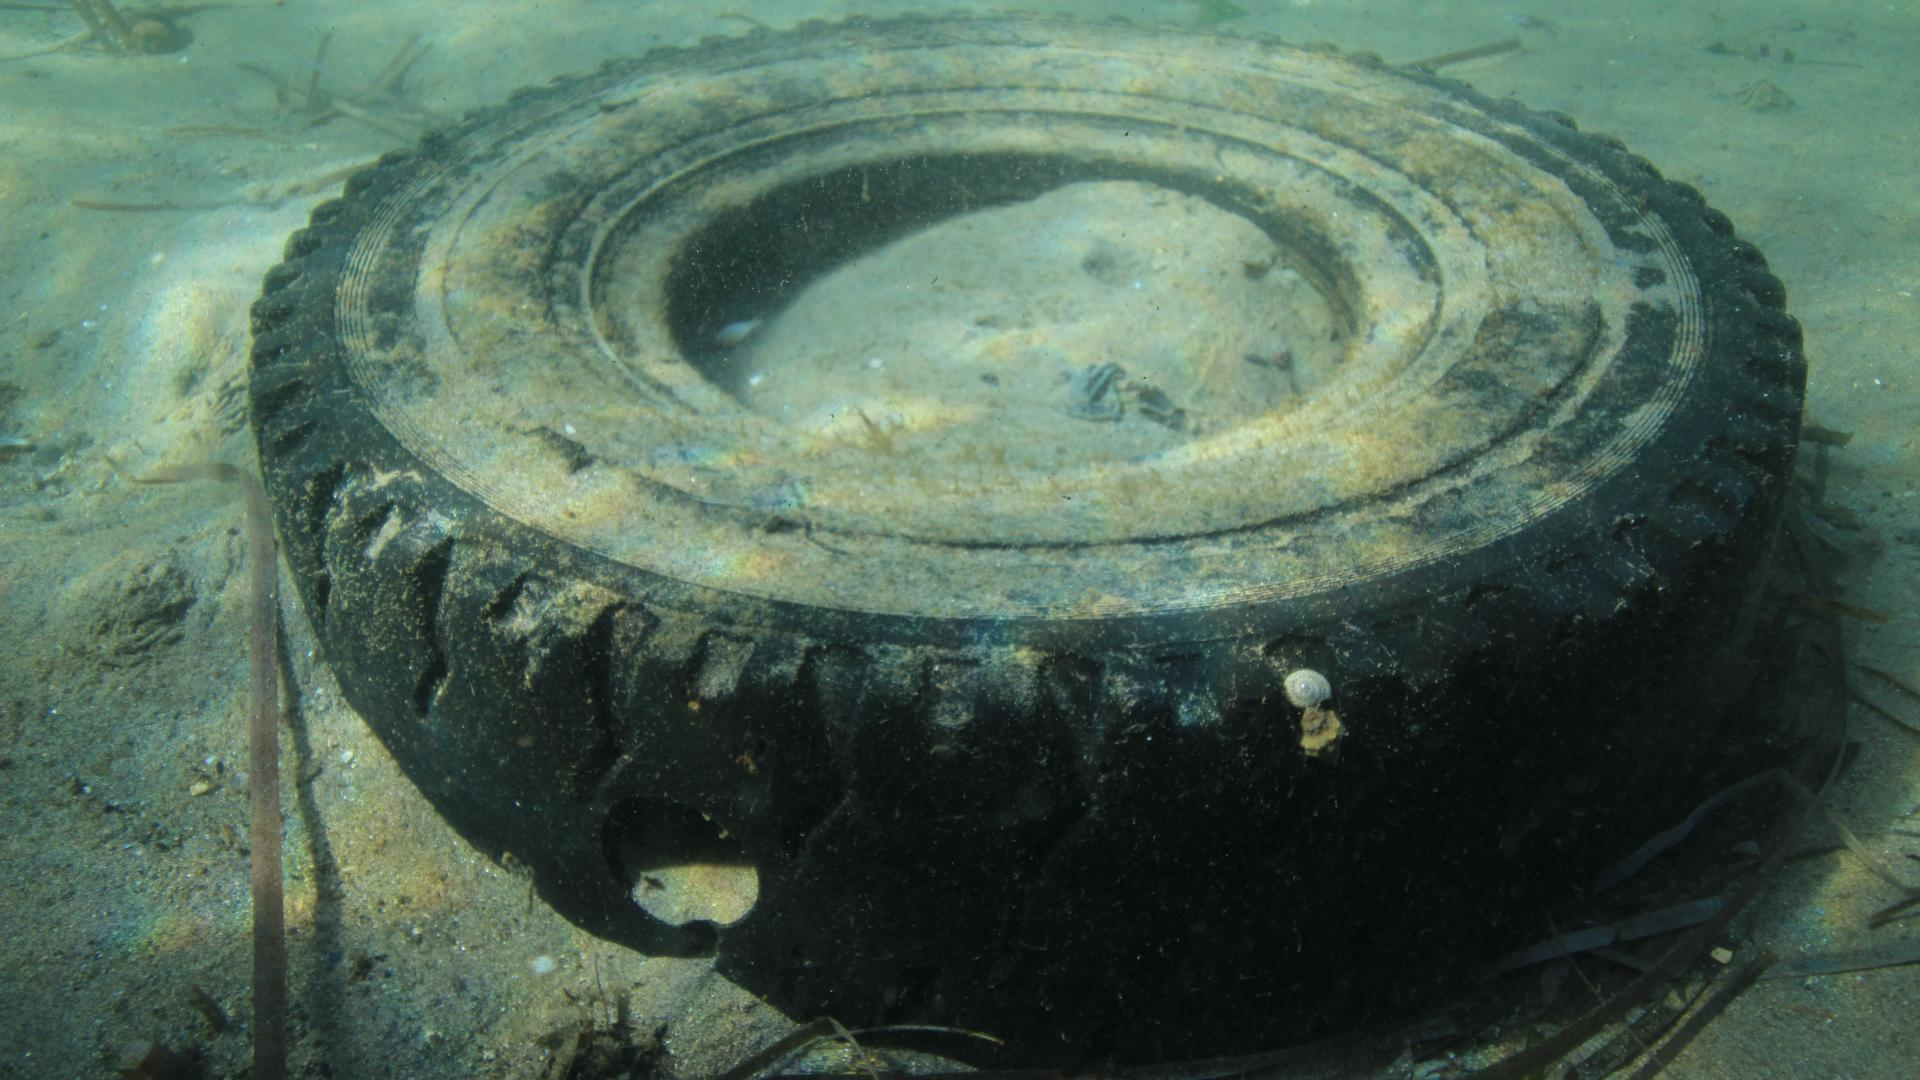tire: (249, 11, 1812, 1077)
